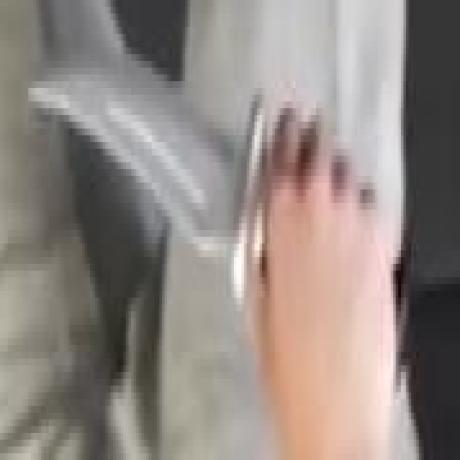1: (250, 110, 399, 460)
weapon: (24, 37, 408, 376)
